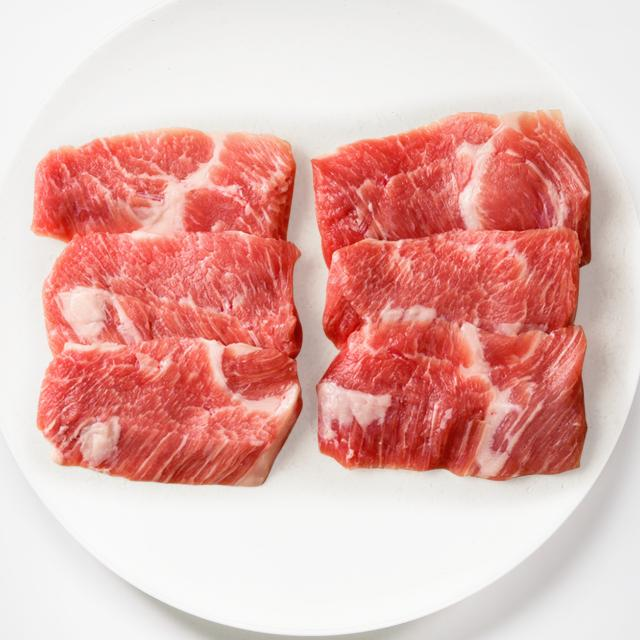beef: (316, 304, 589, 481), (309, 106, 593, 273), (34, 334, 303, 488), (41, 230, 301, 361), (320, 226, 581, 352), (30, 126, 298, 244)
